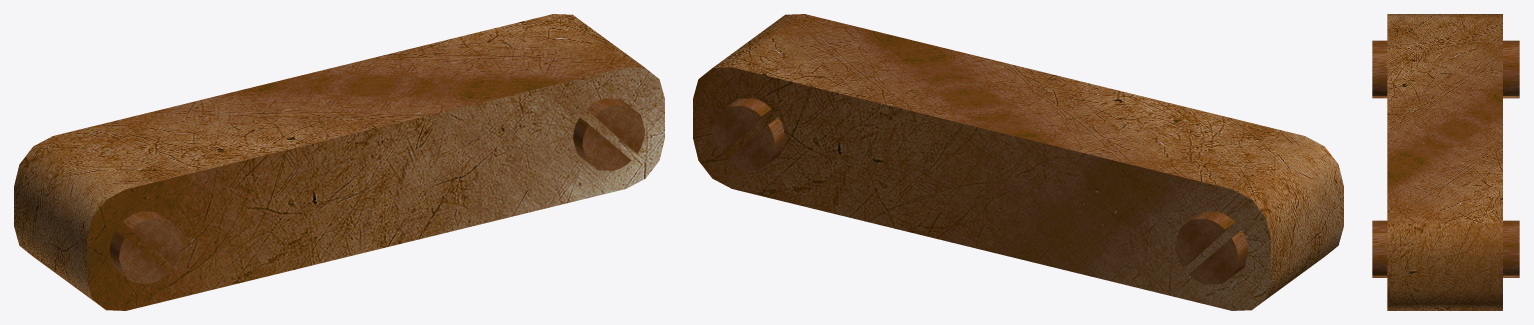
The model's file is Minus.FBX.
3 renders of one model, left to right at view 1: azimuth 30°, elevation 25°; view 2: azimuth 150°, elevation 25°; view 3: azimuth 270°, elevation 25°, orthographic. The views are drawn at different scales.
Visible parts, largest first — view 1: Minus003, Screw_515, Screw_506; view 2: Minus003, Screw_515, Screw_506; view 3: Minus003, Screw_506, Screw_515.
Part boxes in pixels (x1,y1,x2,y2): Minus003: (14, 14, 664, 310); Screw_515: (573, 98, 644, 170); Screw_506: (109, 211, 181, 283); Minus003: (693, 14, 1343, 310); Screw_515: (712, 98, 784, 171); Screw_506: (1175, 211, 1248, 284); Minus003: (1387, 14, 1502, 310); Screw_506: (1372, 40, 1519, 98); Screw_515: (1372, 220, 1519, 277).
Size of the model in its own units: 46.43 by 9.34 by 12.89.
1 material, 1 textured.
